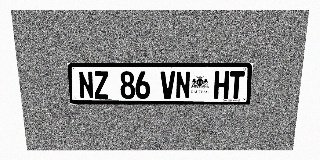6: (135, 71, 150, 99)
8: (120, 71, 135, 99)
H: (214, 71, 230, 99)
N: (78, 71, 94, 99), (175, 71, 191, 99)
T: (229, 71, 245, 99)
V: (161, 71, 175, 99)
Z: (93, 71, 109, 99)
